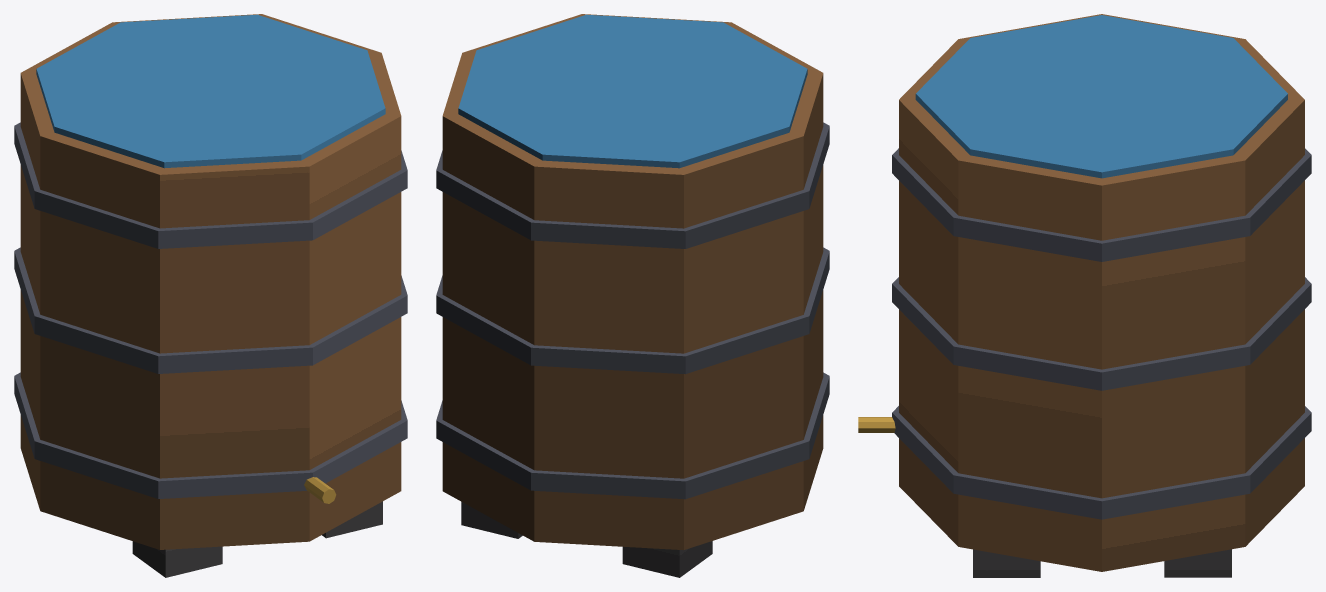
The model's file is water_tank.glb.
3 views of the same model, side by side, from view 1: azimuth 30°, elevation 25°; view 2: azimuth 150°, elevation 25°; view 3: azimuth 270°, elevation 25° (orthographic). The views are drawn at different scales.
Bounding box in the file's own units: 1.24 × 1.4 × 1.34.
1 material, 1 textured.
